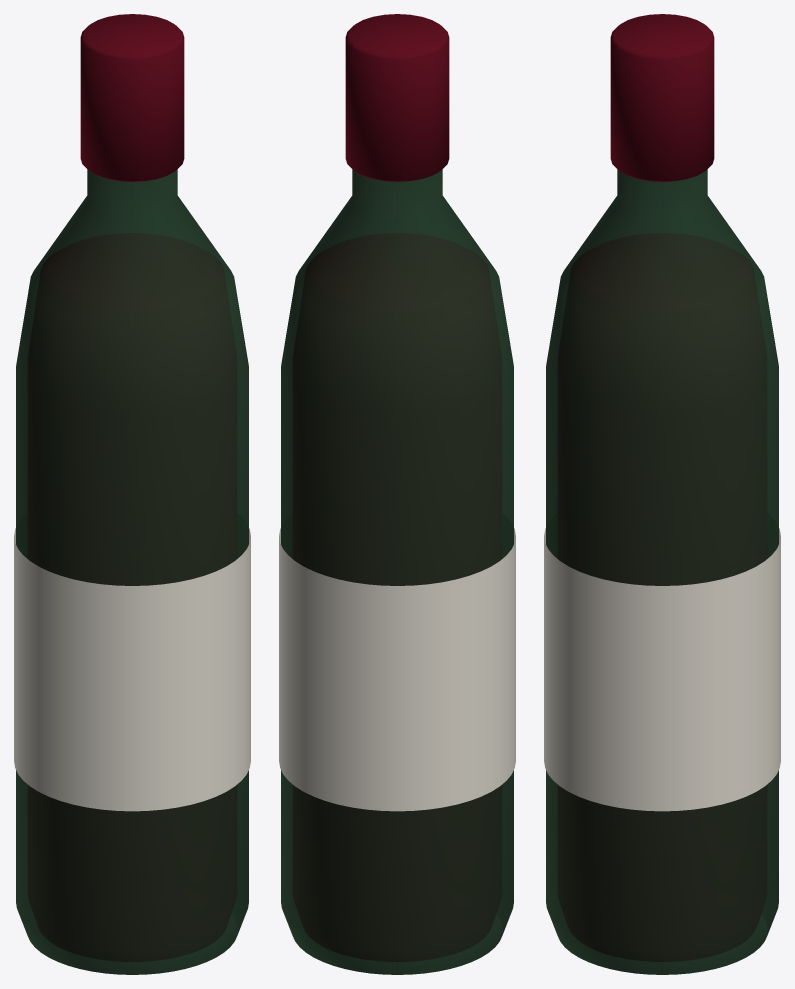
The model's file is vinho_tinto.glb.
3 views of the same model, side by side, from view 1: azimuth 30°, elevation 25°; view 2: azimuth 150°, elevation 25°; view 3: azimuth 270°, elevation 25° (orthographic).
Parts seen in each view (by area): view 1: vinho_tinto; view 2: vinho_tinto; view 3: vinho_tinto.
Boxes of the visible parts, x1,y1,x2,y2 form: vinho_tinto: (14, 14, 250, 974); vinho_tinto: (279, 14, 515, 974); vinho_tinto: (544, 14, 780, 974).
Size of the model in its own units: 0.0762 by 0.318 by 0.0762.
